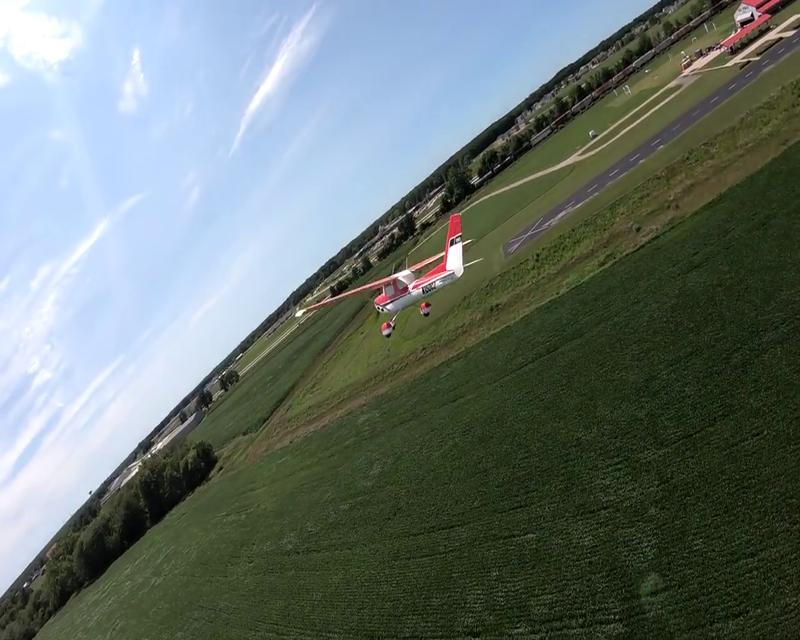UAV: (293, 212, 484, 338)
